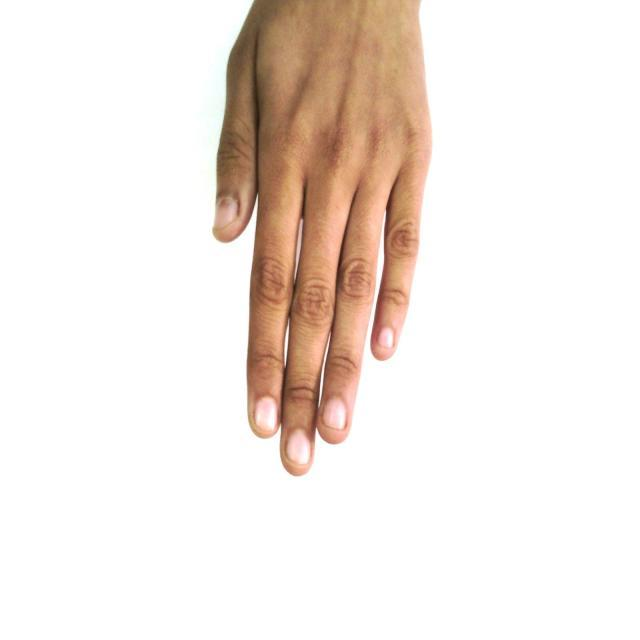Fingernail: (215, 197, 238, 229), (287, 431, 309, 464), (256, 398, 277, 432), (323, 398, 345, 429), (380, 327, 394, 347)
